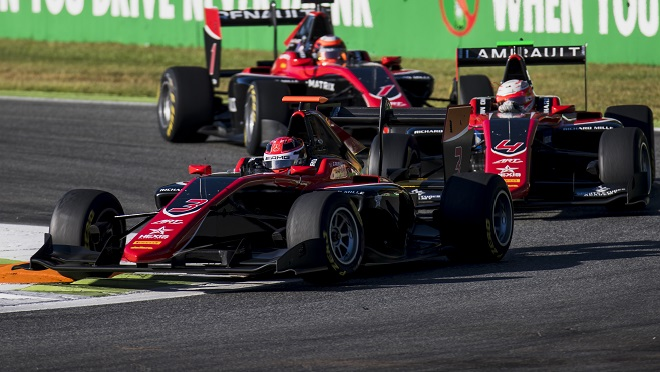race car: (11, 94, 516, 290), (154, 1, 498, 155), (365, 40, 658, 211)
